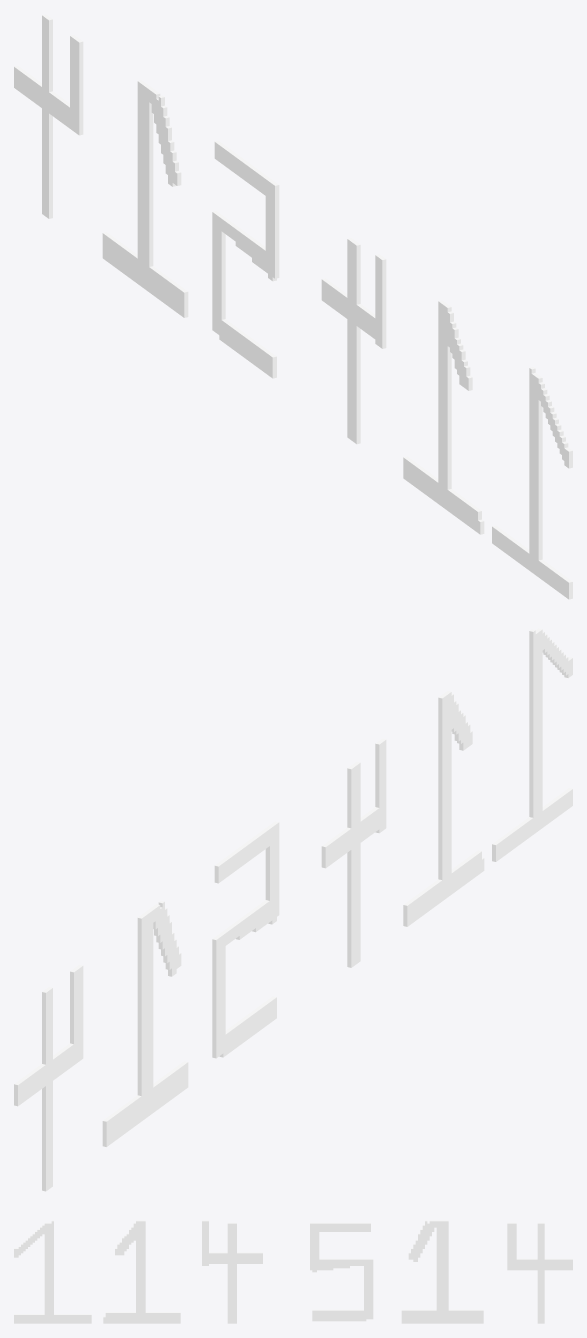
3 renders of one model, top to bottom at view 1: azimuth 30°, elevation 25°; view 2: azimuth 150°, elevation 25°; view 3: azimuth 270°, elevation 25°, orthographic. The views are drawn at different scales.
Parts seen in each view (by area): view 1: Object; view 2: Object; view 3: Object.
Part boxes in pixels (box(x1,y1,x2,y2)): Object: box(14, 14, 572, 599); Object: box(14, 628, 572, 1191); Object: box(14, 1220, 572, 1323).
Bounding box in the file's own units: 1 × 48 × 238.
Materials: 1 (1 with a texture image).
